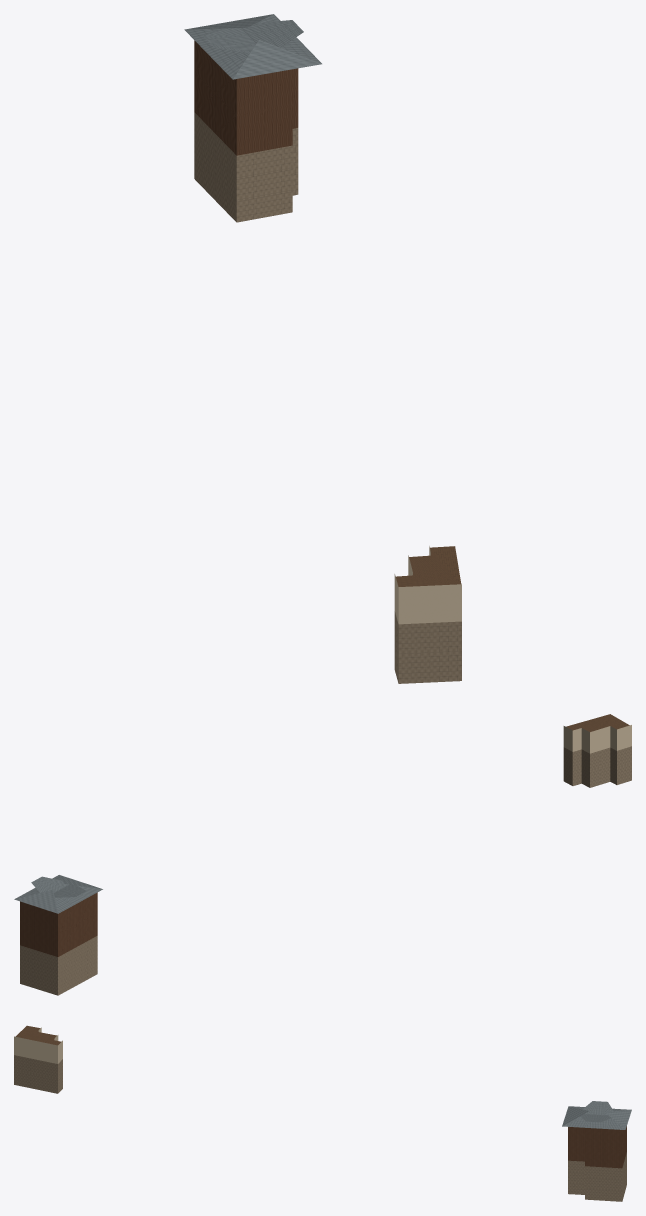
Rendered from bld_c37_35_295.gltf.
3 renders of one model, top to bottom at view 1: azimuth 30°, elevation 25°; view 2: azimuth 150°, elevation 25°; view 3: azimuth 270°, elevation 25°, orthographic. The views are drawn at different scales.
Parts seen in each view (by area): view 1: bld_c37_35_295; view 2: bld_c37_35_295; view 3: bld_c37_35_295.
Boxes of the visible parts, box(x1,y1,x2,y2) form: bld_c37_35_295: box(184, 14, 461, 683); bld_c37_35_295: box(14, 714, 631, 995); bld_c37_35_295: box(14, 1025, 631, 1201).
Size of the model in its own units: 37.82 by 12.2 by 85.4.
Materials: 6 (6 with a texture image).
